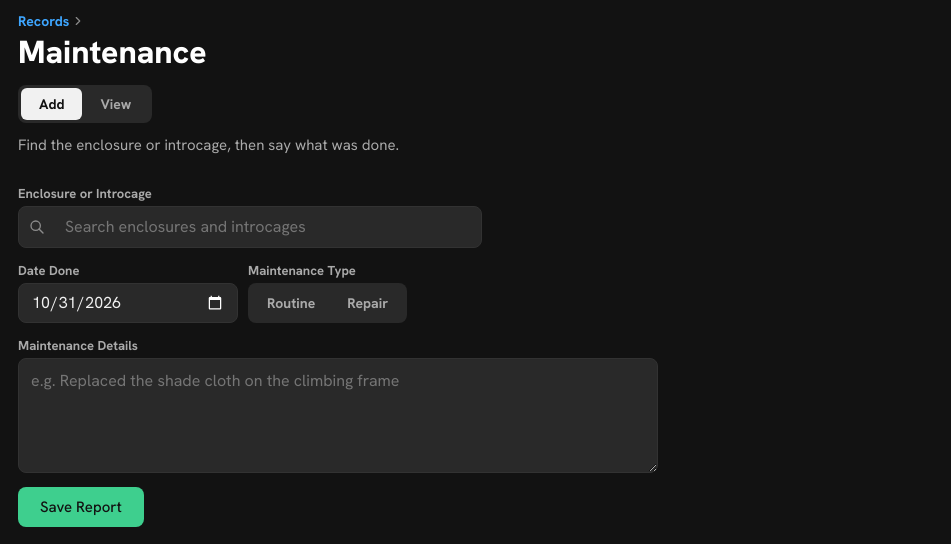
Test: View › pick a place from the search's list: just its reports (an enclosure: its introcages too); Clear for all
Click the tab "View".
click(116, 104)  # box top-left (82, 88), bottom-right (149, 120)
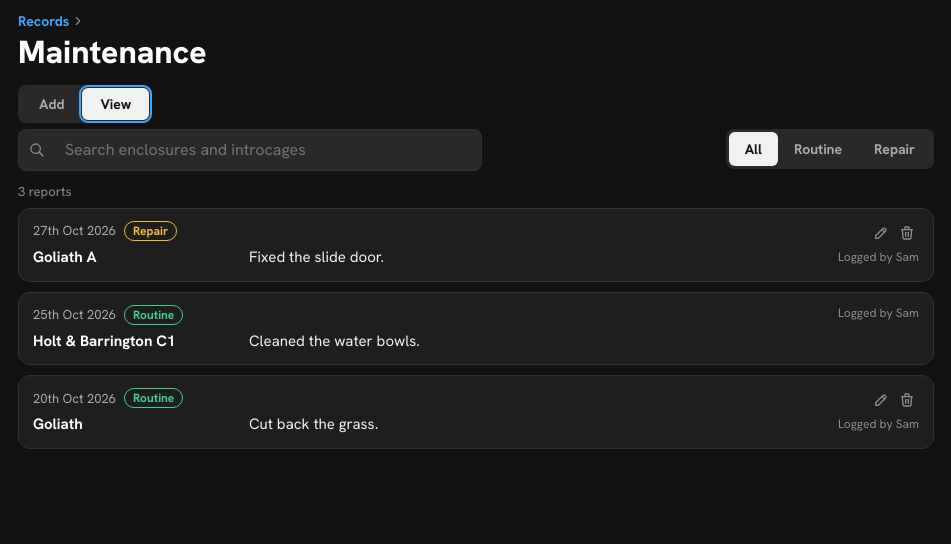
Type "gol" into the search field labelled "Search enclosures and introcages".
click(267, 150); type("gol")  # box top-left (53, 130), bottom-right (481, 170)
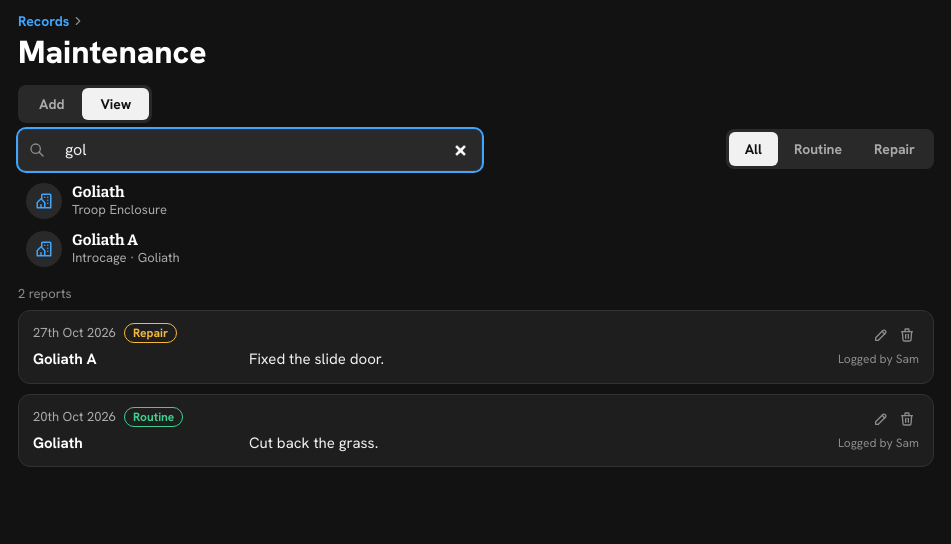
Click the button named "GoliathTroop".
click(44, 201)  # box top-left (18, 177), bottom-right (470, 225)
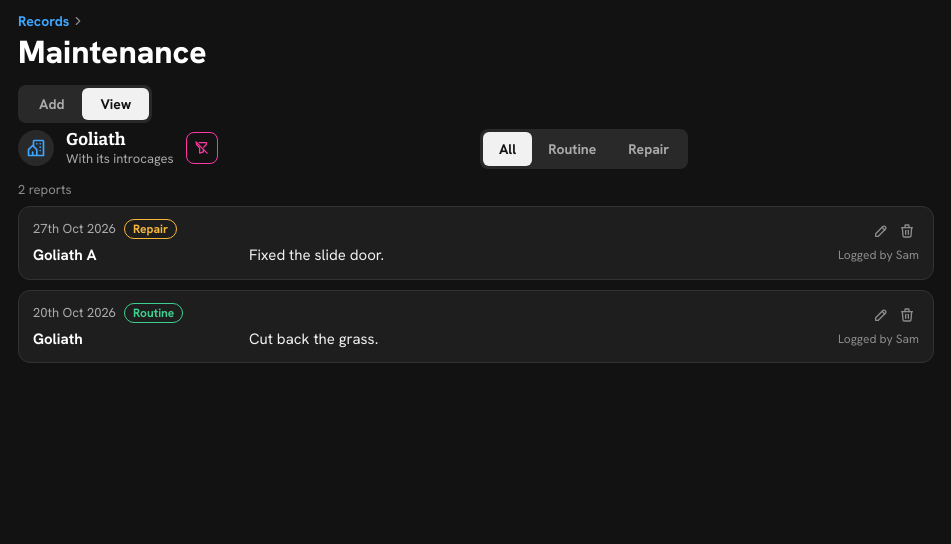
Expected: the text "Cleaned the water bowls." is not shown
Expected: the text "2 reports" is shown, top-left (18, 181), bottom-right (72, 198)
Expected: the text "With its introcages" is shown, top-left (66, 150), bottom-right (174, 167)
Note: (another place: Clear, then pick it)
Click the button named "Clear".
click(202, 148)  # box top-left (186, 132), bottom-right (218, 164)
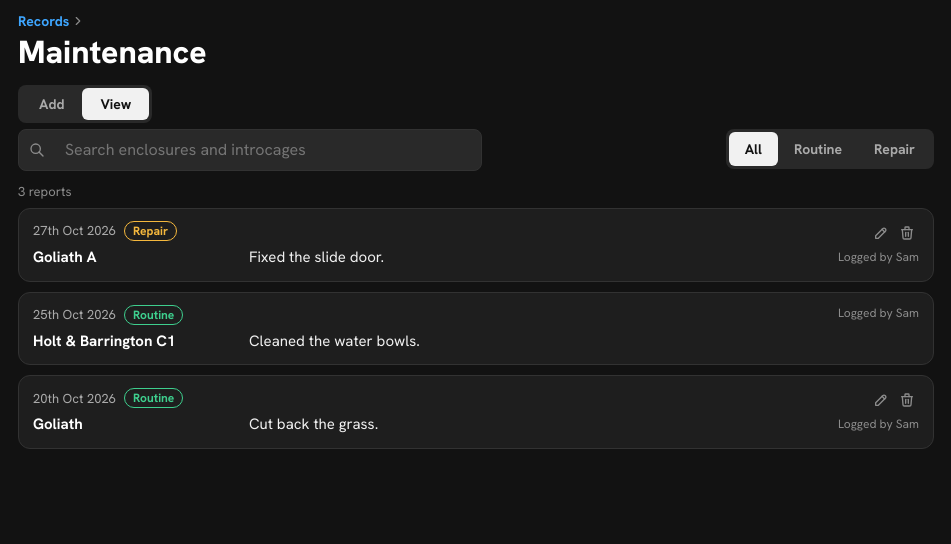
Expected: the text "3 reports" is shown, top-left (18, 183), bottom-right (72, 200)
Type "goliath a" into the search field.
click(267, 150); type("goliath a")  # box top-left (53, 130), bottom-right (481, 170)
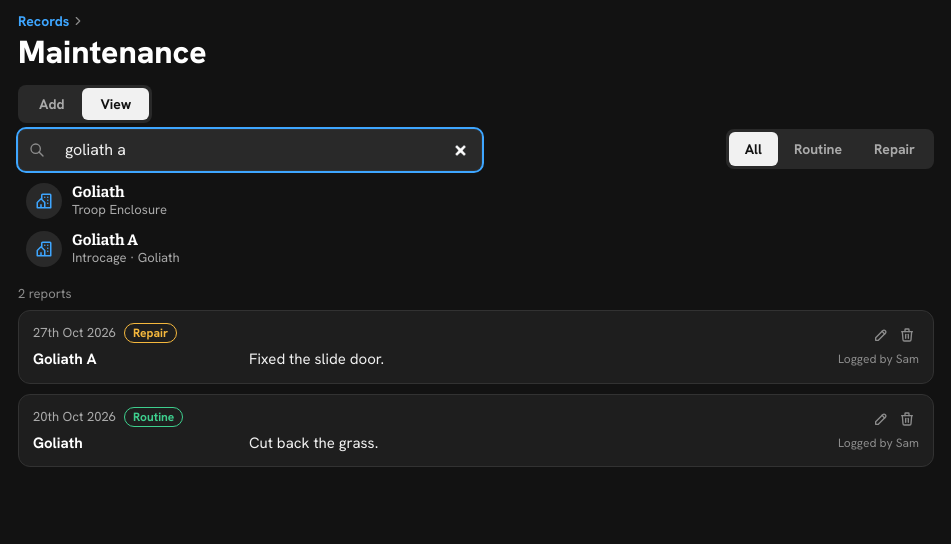
Click the button "Goliath A Introcage · Goliath".
click(44, 249)  # box top-left (18, 225), bottom-right (470, 273)
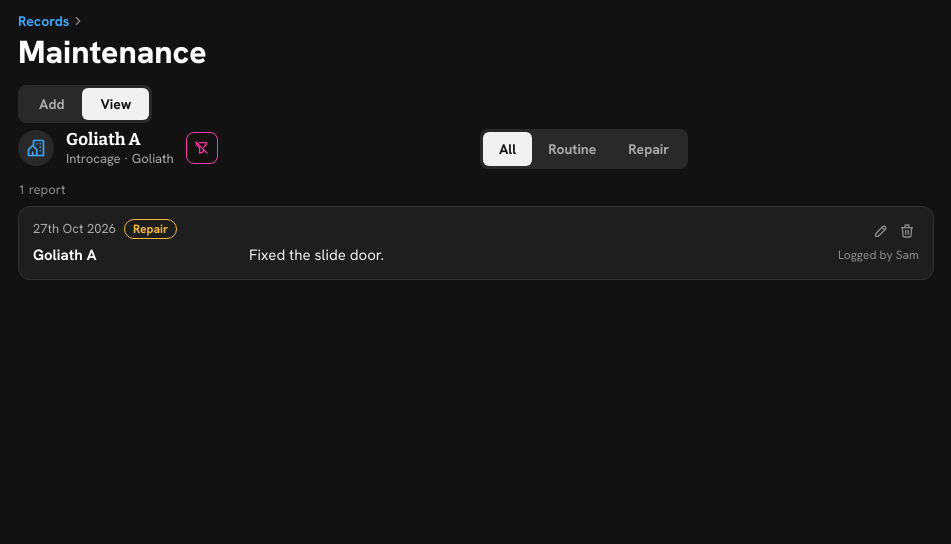
Expected: the text "Fixed the slide door." is shown, top-left (249, 245), bottom-right (384, 265)
Expected: the text "1 report" is shown, top-left (18, 181), bottom-right (66, 198)
